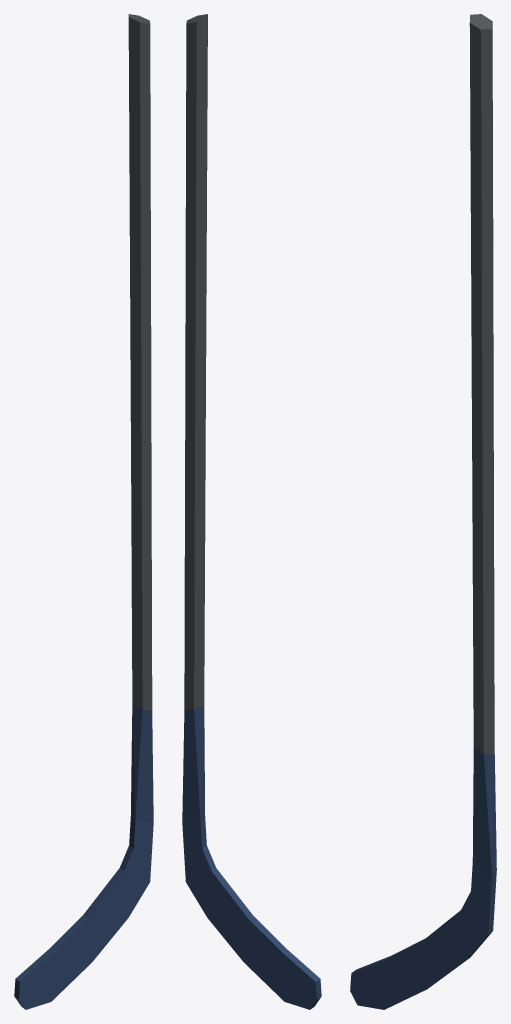
File: Ice_hockey_stick_blue.fbx
The picture shows the model from 3 angles, left to right: view 1: azimuth 30°, elevation 25°; view 2: azimuth 150°, elevation 25°; view 3: azimuth 330°, elevation 25°; orthographic projection. The views are drawn at different scales.
Parts seen in each view (by area): view 1: Ice_hockey_stick_blue; view 2: Ice_hockey_stick_blue; view 3: Ice_hockey_stick_blue.
Boxes of the visible parts, x1,y1,x2,y2 form: Ice_hockey_stick_blue: (14, 14, 153, 1009); Ice_hockey_stick_blue: (182, 14, 321, 1009); Ice_hockey_stick_blue: (350, 14, 496, 1009).
Bounding box in the file's own units: 28.25 × 193 × 4.06.
